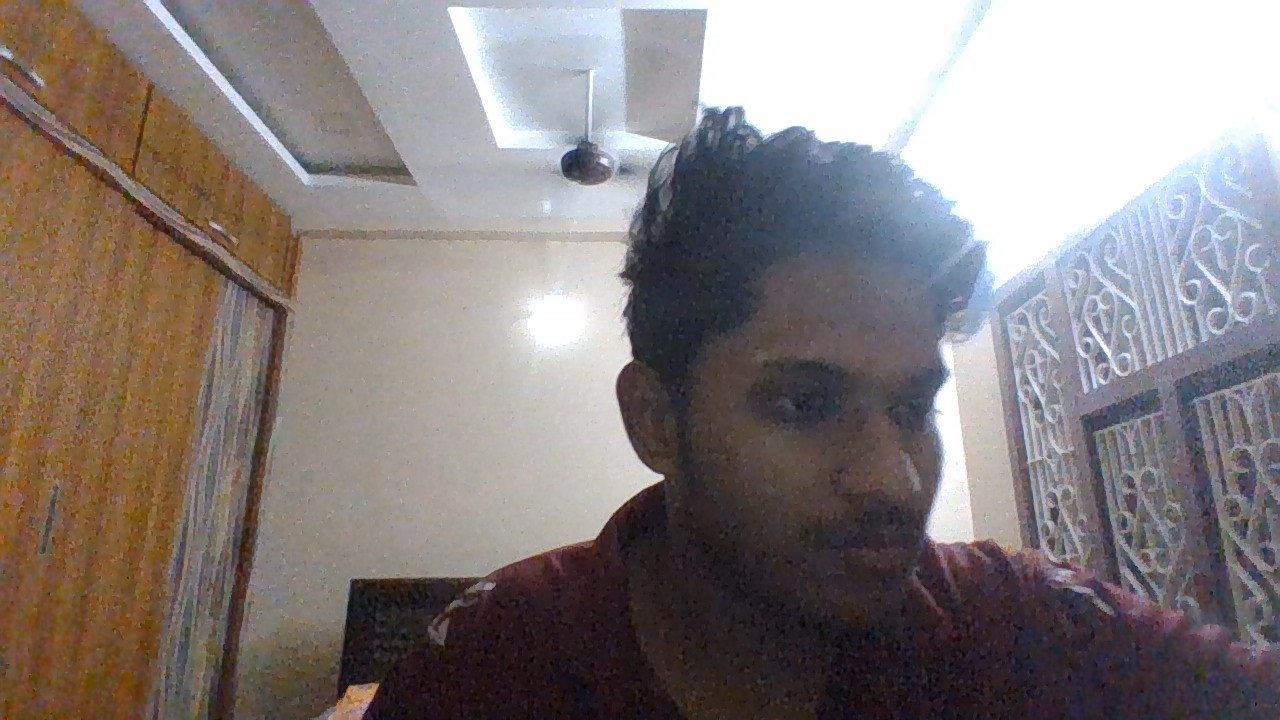person: (534, 105, 1039, 696)
